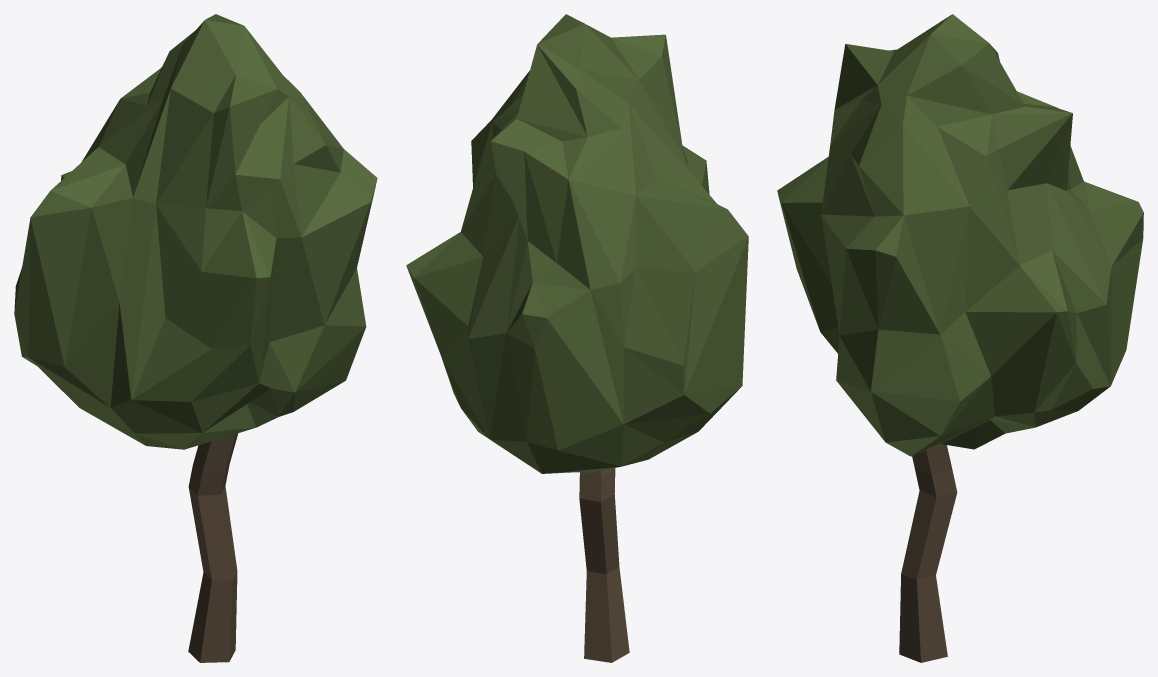
The model's file is tree_86.fbx.
3 renders of one model, left to right at view 1: azimuth 30°, elevation 25°; view 2: azimuth 150°, elevation 25°; view 3: azimuth 270°, elevation 25°, orthographic. The views are drawn at different scales.
Visible parts, largest first — view 1: tree_086; view 2: tree_086; view 3: tree_086.
Boxes of the visible parts, x1,y1,x2,y2 form: tree_086: [14, 14, 377, 662]; tree_086: [406, 14, 748, 662]; tree_086: [777, 14, 1143, 662].
Size of the model in its own units: 0.9967 by 1.94 by 1.01.
1 material, 1 textured.
